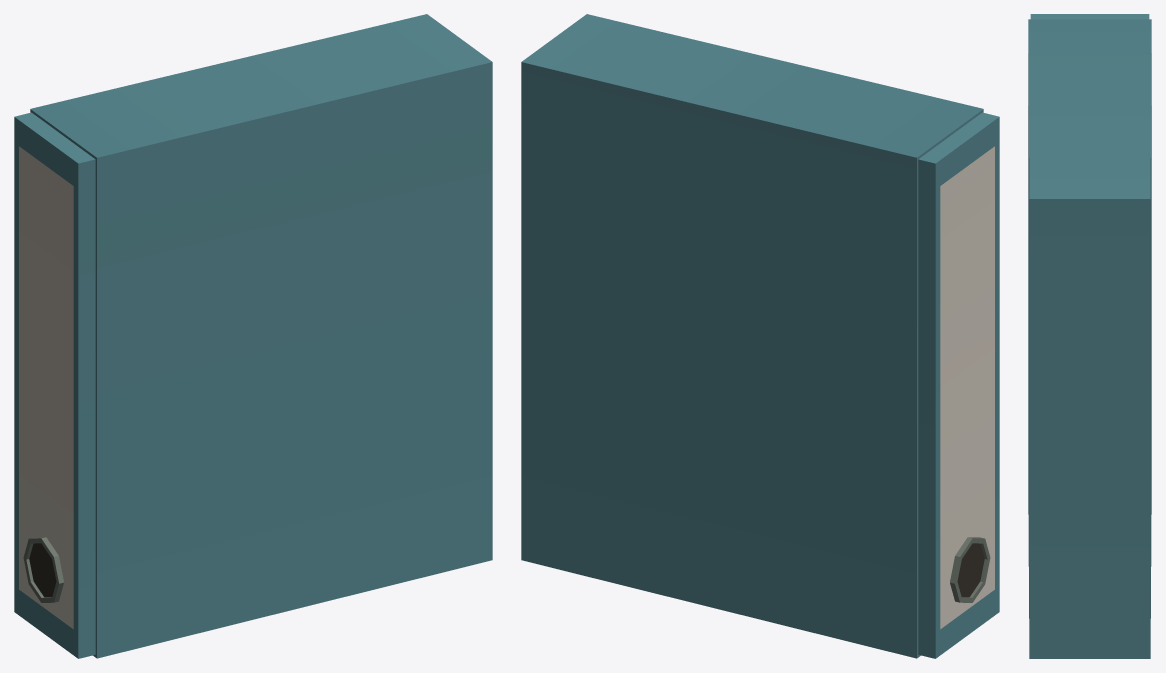
The model's file is SM_CarpesanoAzul.fbx.
The picture shows the model from 3 angles, left to right: view 1: azimuth 30°, elevation 25°; view 2: azimuth 150°, elevation 25°; view 3: azimuth 270°, elevation 25°; orthographic projection. The views are drawn at different scales.
Visible parts, largest first — view 1: Cube, Cylinder; view 2: Cube, Cylinder; view 3: Cube.
Boxes of the visible parts, bbox=[...] form: Cube: bbox=[14, 14, 492, 658]; Cylinder: bbox=[23, 537, 63, 602]; Cube: bbox=[521, 14, 999, 658]; Cylinder: bbox=[950, 537, 990, 602]; Cube: bbox=[1028, 14, 1151, 658].
Bounding box in the file's own units: 32.93 × 37.65 × 9.11.
